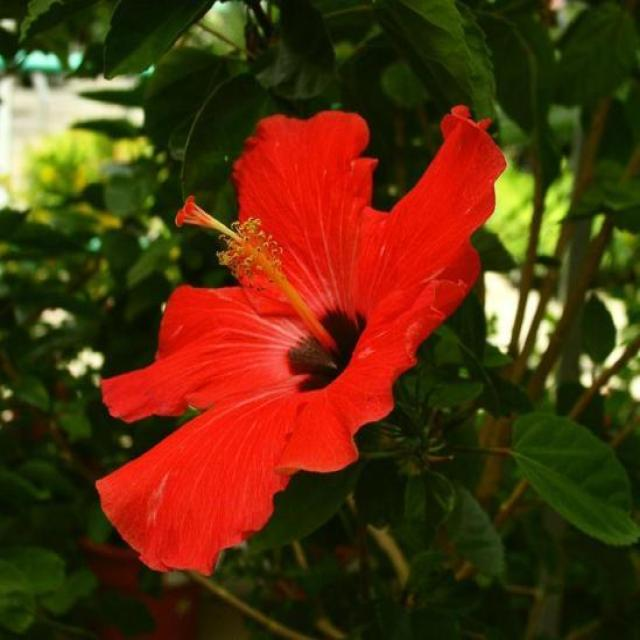hibiscus: (70, 74, 586, 610)
